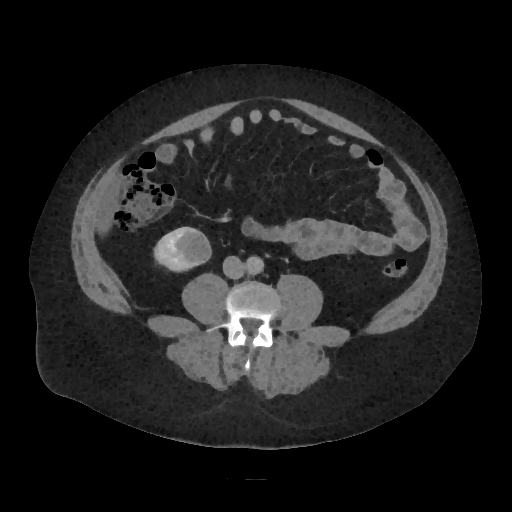Lesion: (172, 232, 211, 263)
